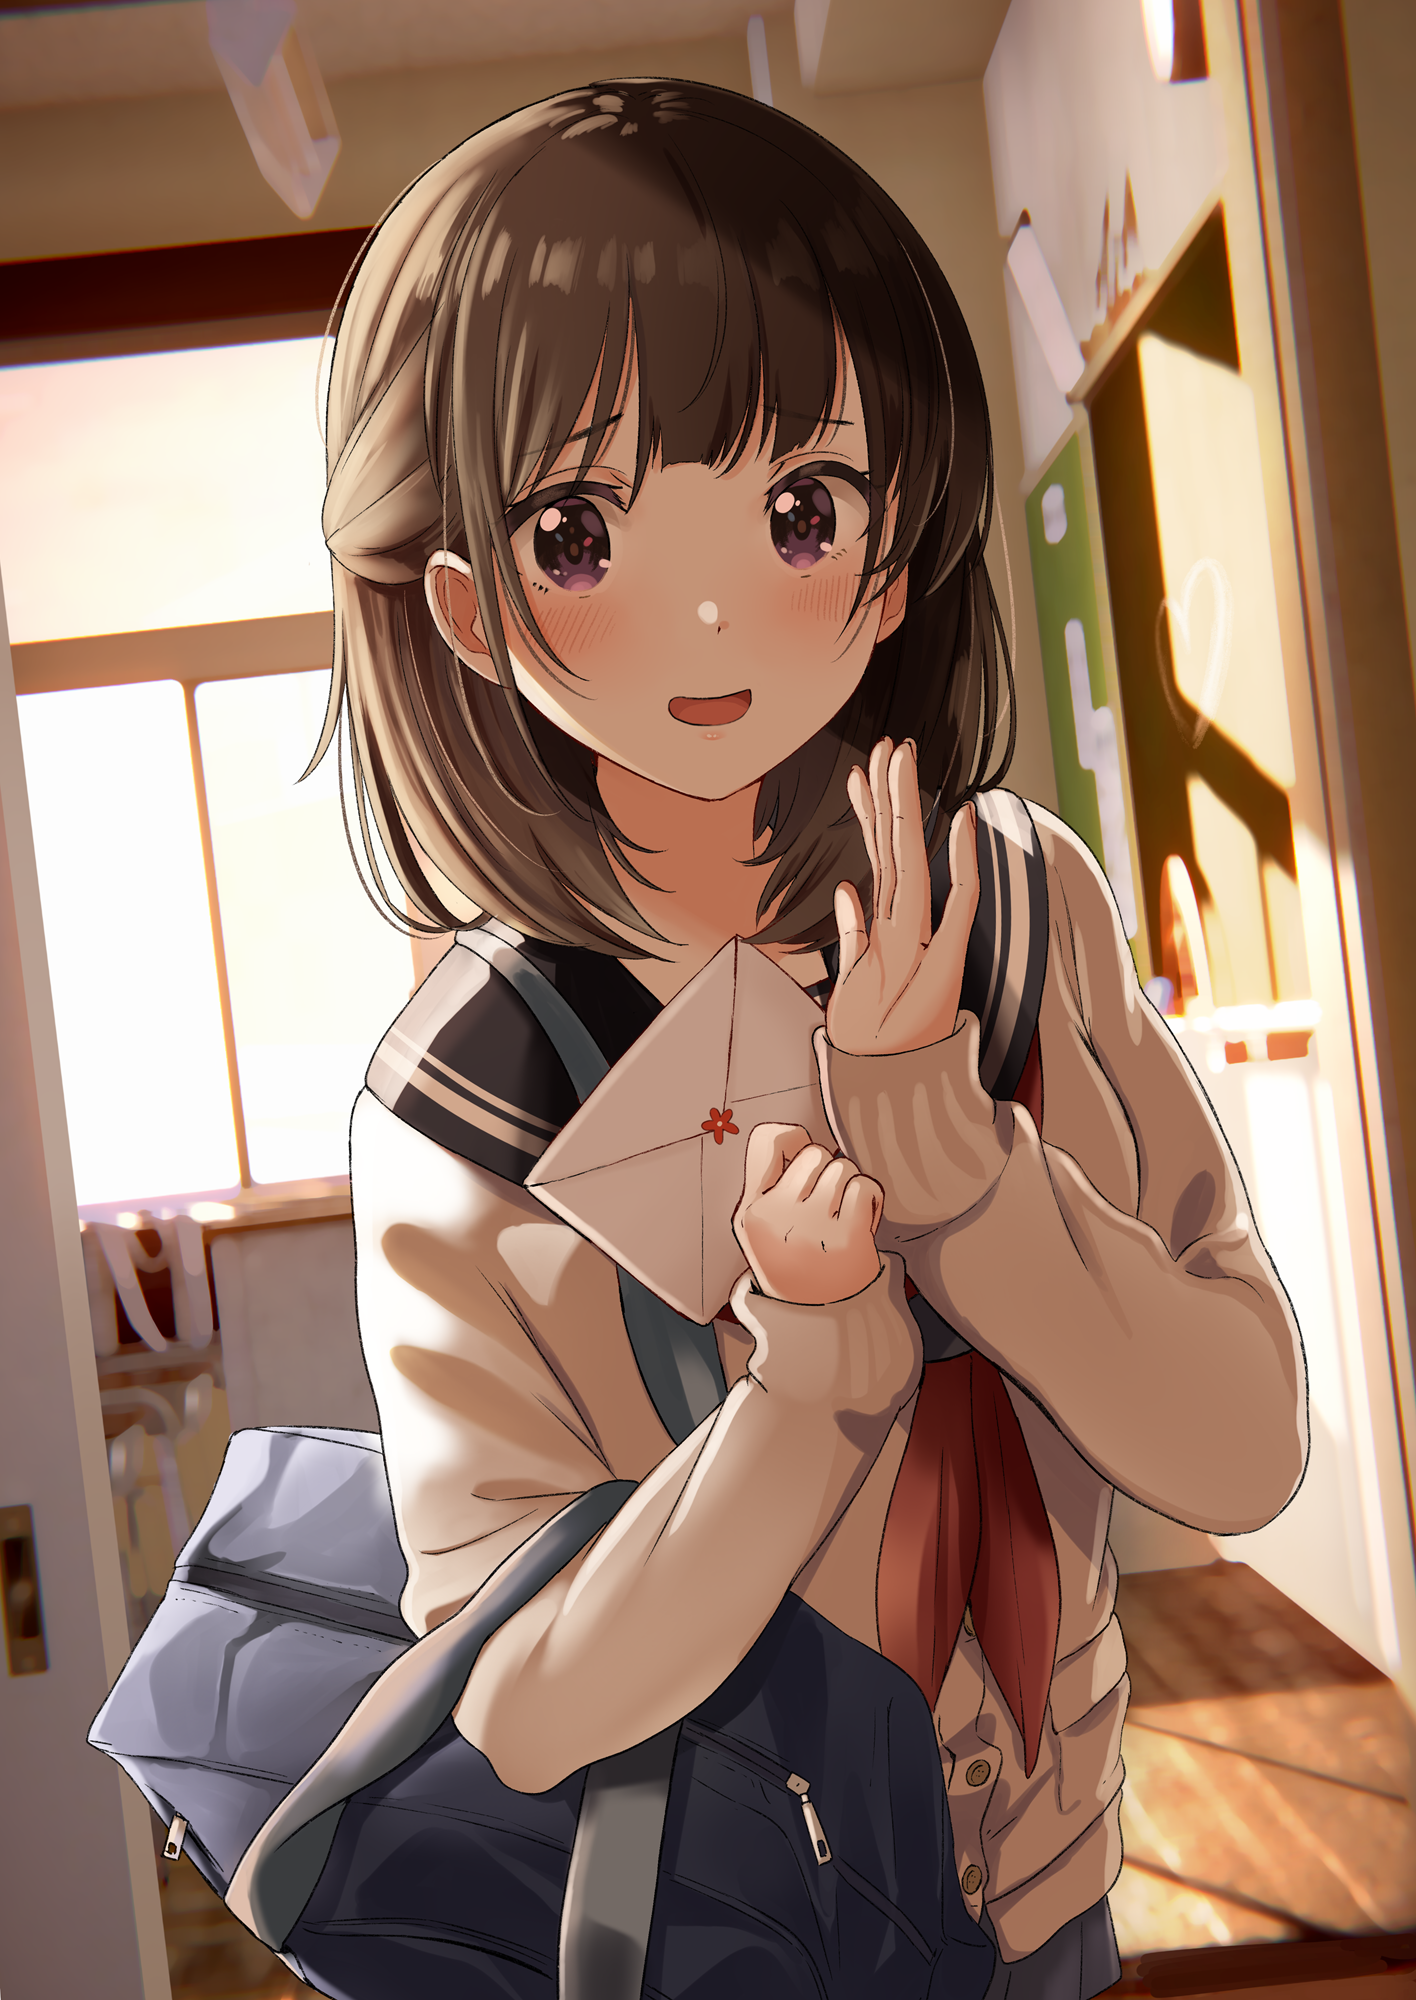纸片人正脸: (313, 47, 986, 825)
